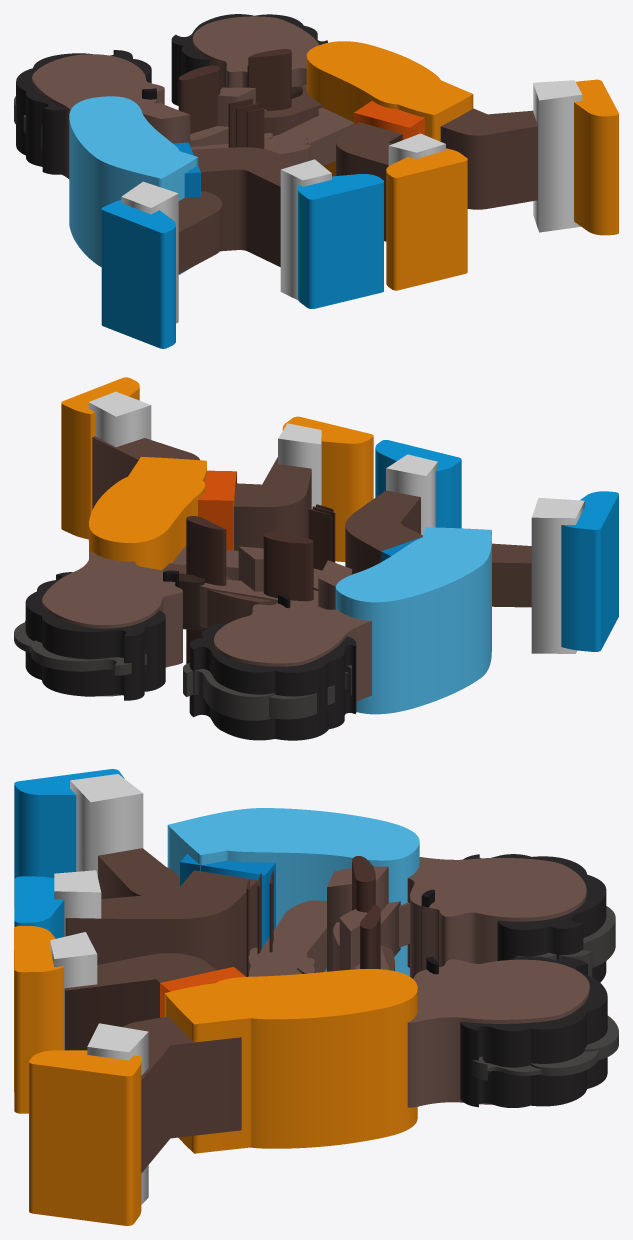
Rendered from emoji_u1f93c_1f3ff.glb.
3 renders of one model, top to bottom at view 1: azimuth 30°, elevation 25°; view 2: azimuth 150°, elevation 25°; view 3: azimuth 270°, elevation 25°, orthographic. The views are drawn at different scales.
Parts seen in each view (by area): view 1: emoji_u1f93c_1f3ff; view 2: emoji_u1f93c_1f3ff; view 3: emoji_u1f93c_1f3ff.
Part boxes in pixels (left/top/right/bottom): emoji_u1f93c_1f3ff: left=14, top=14, right=618, bottom=348; emoji_u1f93c_1f3ff: left=14, top=377, right=618, bottom=740; emoji_u1f93c_1f3ff: left=14, top=769, right=618, bottom=1225.
Size of the model in its own units: 0.0328 by 0.0092 by 0.0271.
